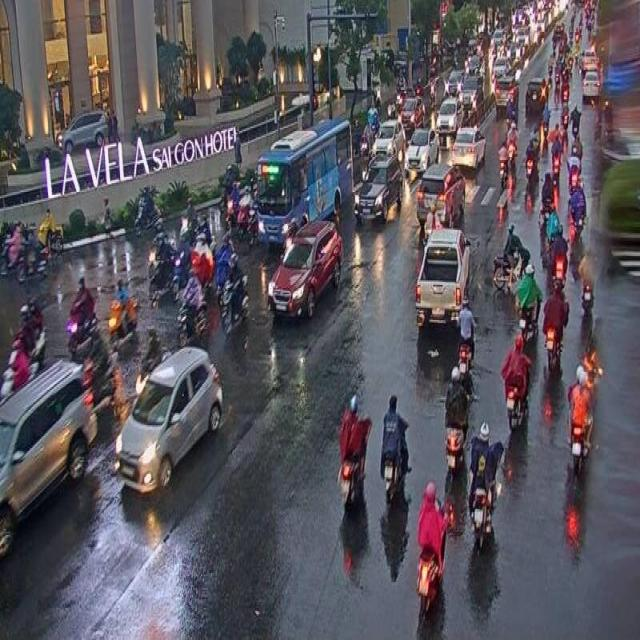bus: (256, 119, 354, 244)
car: (0, 361, 97, 553), (115, 346, 222, 489), (266, 216, 344, 320), (414, 227, 470, 325), (354, 151, 404, 218), (416, 162, 463, 227)
motorcycle: (468, 421, 503, 550), (418, 483, 447, 619), (379, 393, 412, 506), (502, 334, 530, 434), (444, 366, 468, 477), (542, 276, 569, 372), (492, 223, 528, 291), (458, 296, 476, 370)
